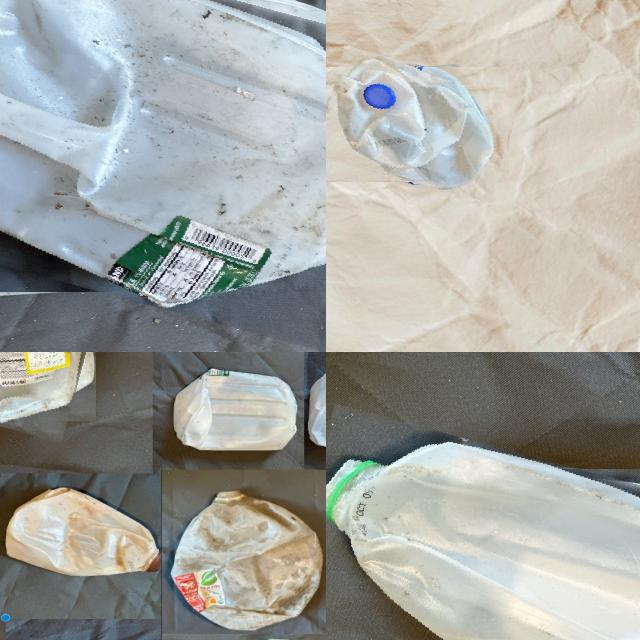milk-jug: (0, 0, 326, 321), (326, 435, 640, 640), (326, 55, 516, 191), (172, 491, 326, 631), (1, 483, 158, 580), (170, 367, 300, 452)
